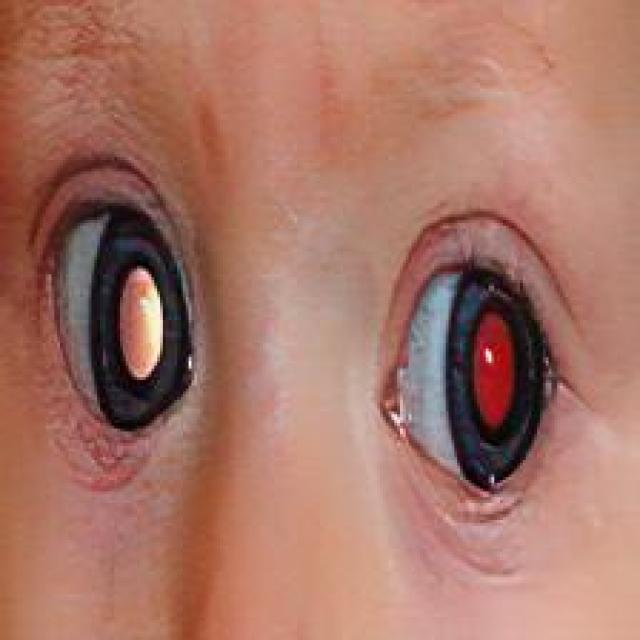reflexo-alterado: (48, 188, 204, 427)
reflexo-normal: (378, 234, 567, 485)
